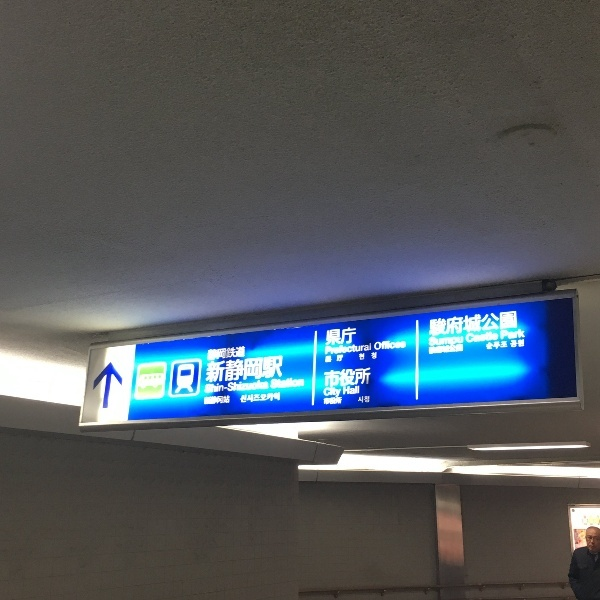text: (209, 356, 224, 383), (225, 356, 240, 383), (241, 356, 256, 383), (257, 356, 272, 383), (433, 311, 448, 337), (449, 311, 464, 337), (465, 311, 480, 337), (481, 311, 496, 337), (497, 311, 512, 337), (337, 367, 352, 388), (353, 367, 368, 388), (337, 327, 352, 346), (273, 356, 283, 383), (325, 367, 336, 388), (209, 346, 224, 361), (225, 346, 240, 361), (209, 380, 224, 394), (225, 380, 240, 394), (241, 380, 256, 394), (433, 334, 448, 347), (449, 334, 464, 347), (481, 331, 496, 344), (466, 331, 480, 344), (273, 377, 288, 389), (289, 377, 304, 389), (337, 343, 352, 355), (353, 343, 368, 355), (327, 327, 336, 346), (257, 380, 268, 394), (209, 396, 224, 406), (385, 341, 400, 351), (433, 344, 448, 354), (241, 393, 256, 403), (257, 393, 272, 403), (449, 344, 463, 354), (325, 343, 336, 355), (324, 387, 336, 398), (513, 329, 525, 340), (501, 329, 512, 340), (513, 339, 525, 348), (513, 311, 517, 337), (374, 341, 384, 351), (497, 341, 508, 350), (324, 397, 336, 405), (486, 341, 496, 350), (325, 355, 336, 363), (343, 386, 352, 395), (358, 396, 368, 404), (241, 346, 246, 361), (359, 352, 368, 360), (273, 393, 280, 403), (369, 352, 377, 360), (353, 327, 356, 346), (337, 355, 344, 363), (337, 387, 342, 398), (353, 386, 359, 395), (430, 311, 432, 337), (225, 396, 230, 406), (401, 341, 406, 351), (205, 380, 208, 394), (369, 367, 371, 388), (204, 396, 208, 406), (337, 397, 342, 405), (429, 334, 432, 347), (429, 344, 432, 354), (369, 343, 371, 355), (510, 339, 512, 348), (497, 331, 498, 344), (271, 377, 272, 389), (369, 396, 370, 404)
